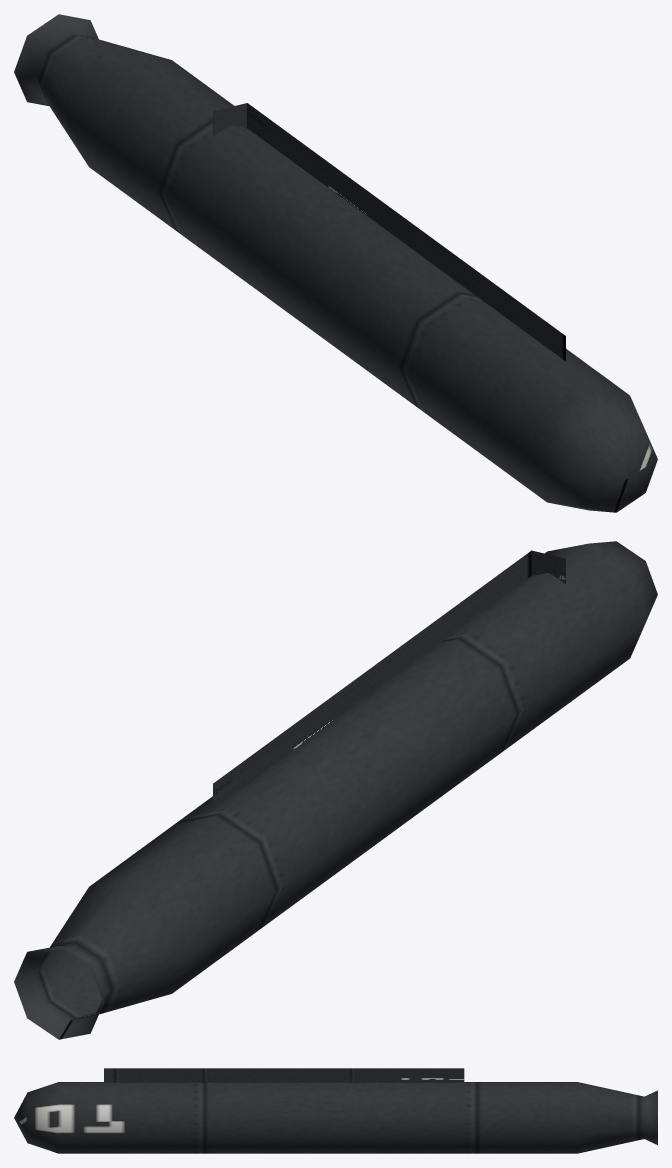
File: drone_booster_lod1.obj
The picture shows the model from 3 angles, top to bottom: view 1: azimuth 30°, elevation 25°; view 2: azimuth 150°, elevation 25°; view 3: azimuth 270°, elevation 25°; orthographic projection. The views are drawn at different scales.
Bounding box in the file's own units: 0.17 × 0.195 × 1.43.
